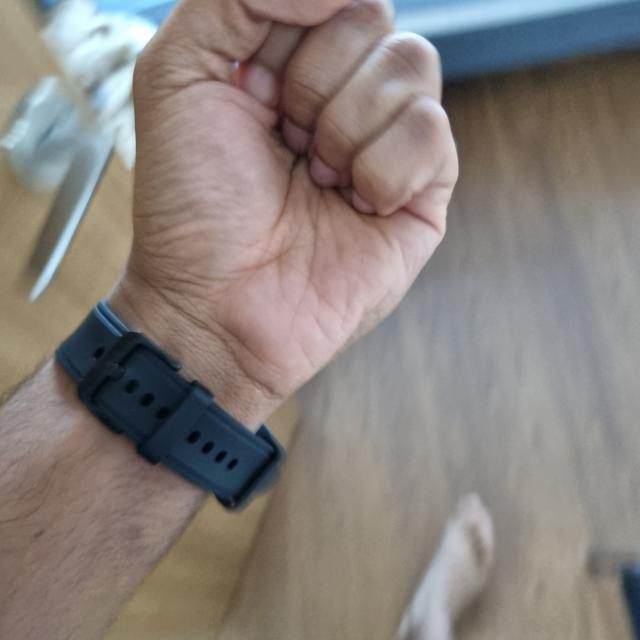Rock: (119, 1, 451, 408)
